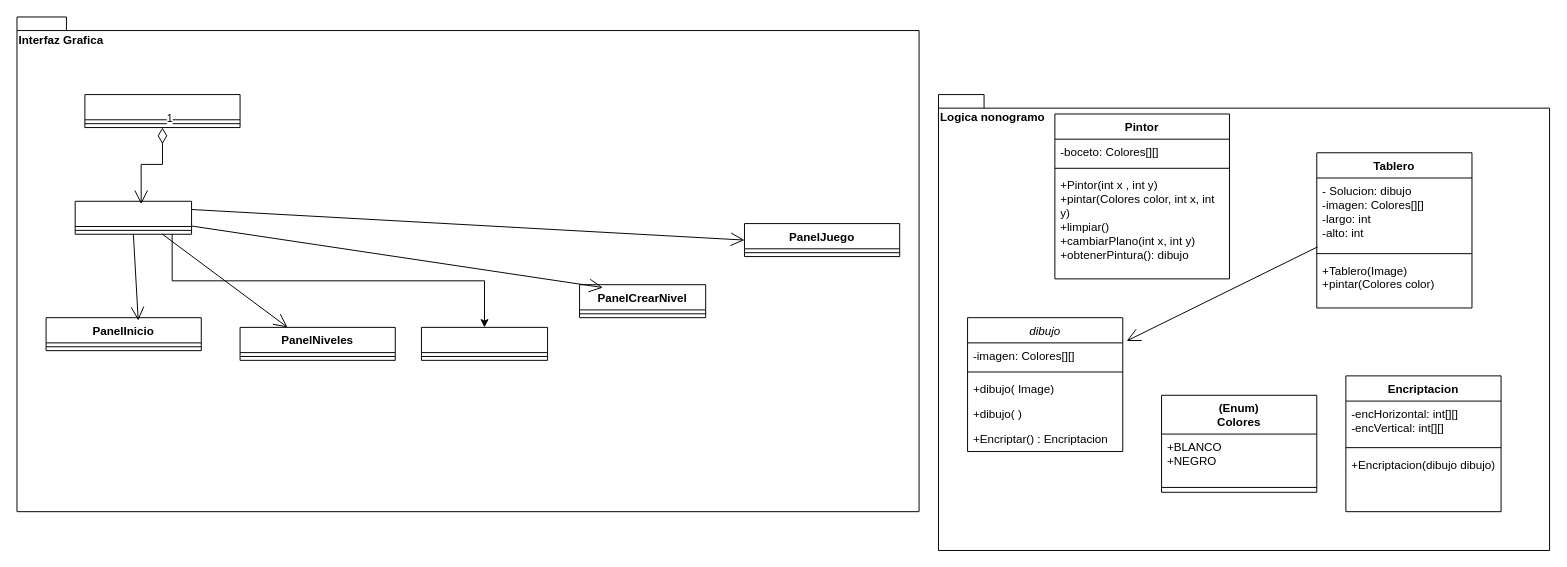
The diagram is 1567 pixels wide and 567 high, and some of its shapes have lost their labels. The shapes that lost their labels are listed below. From the top down, each one's centre as x and y in pixels, then its label:
At [162,111]: "Ventana".
At [133,217]: "PanelPrincipal".
At [484,343]: "PanelLogros".
